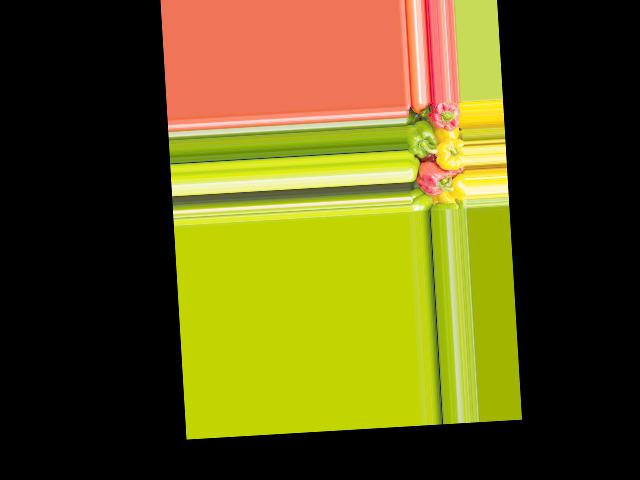bell_pepper: (426, 101, 461, 136)
